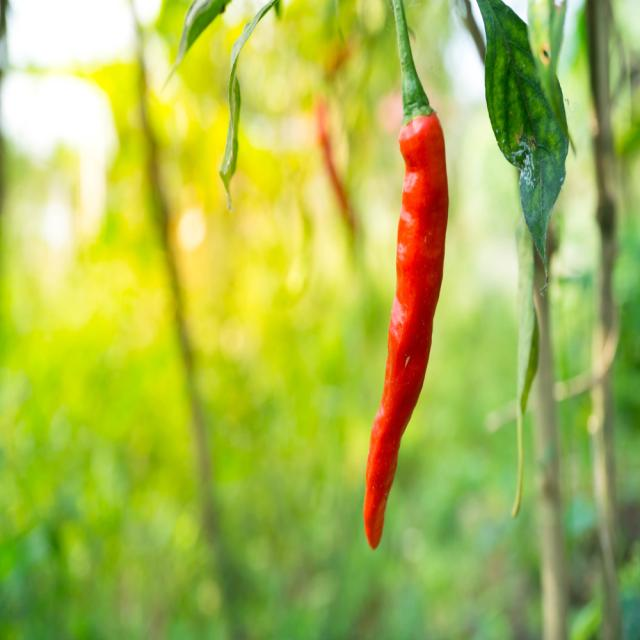Ripe: (364, 112, 449, 548)
